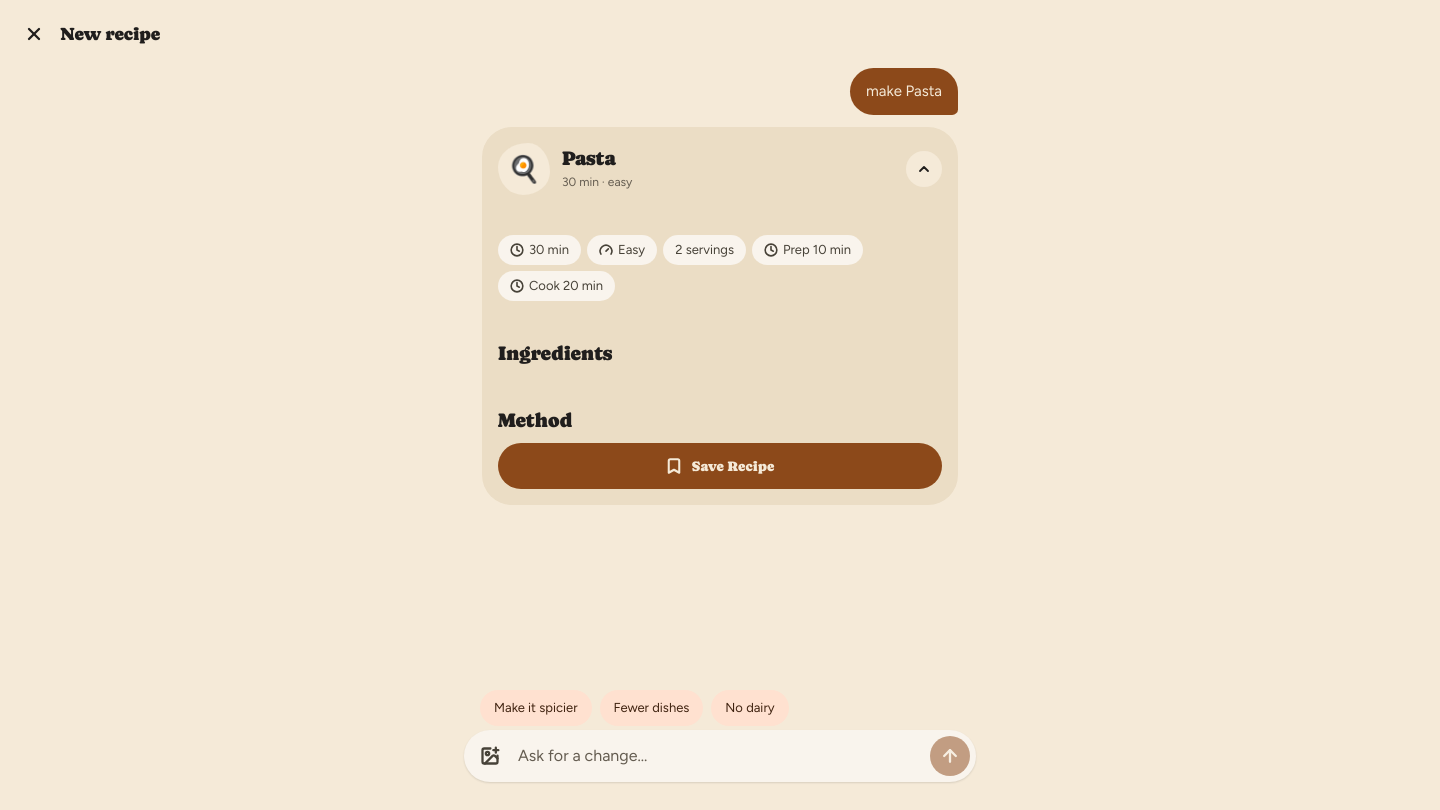
Test: RecipeChatPage close and gate › Close asks before discarding an unsaved recipe
Click the button named "Close".
click(34, 34)  # box [12,12,56,56]
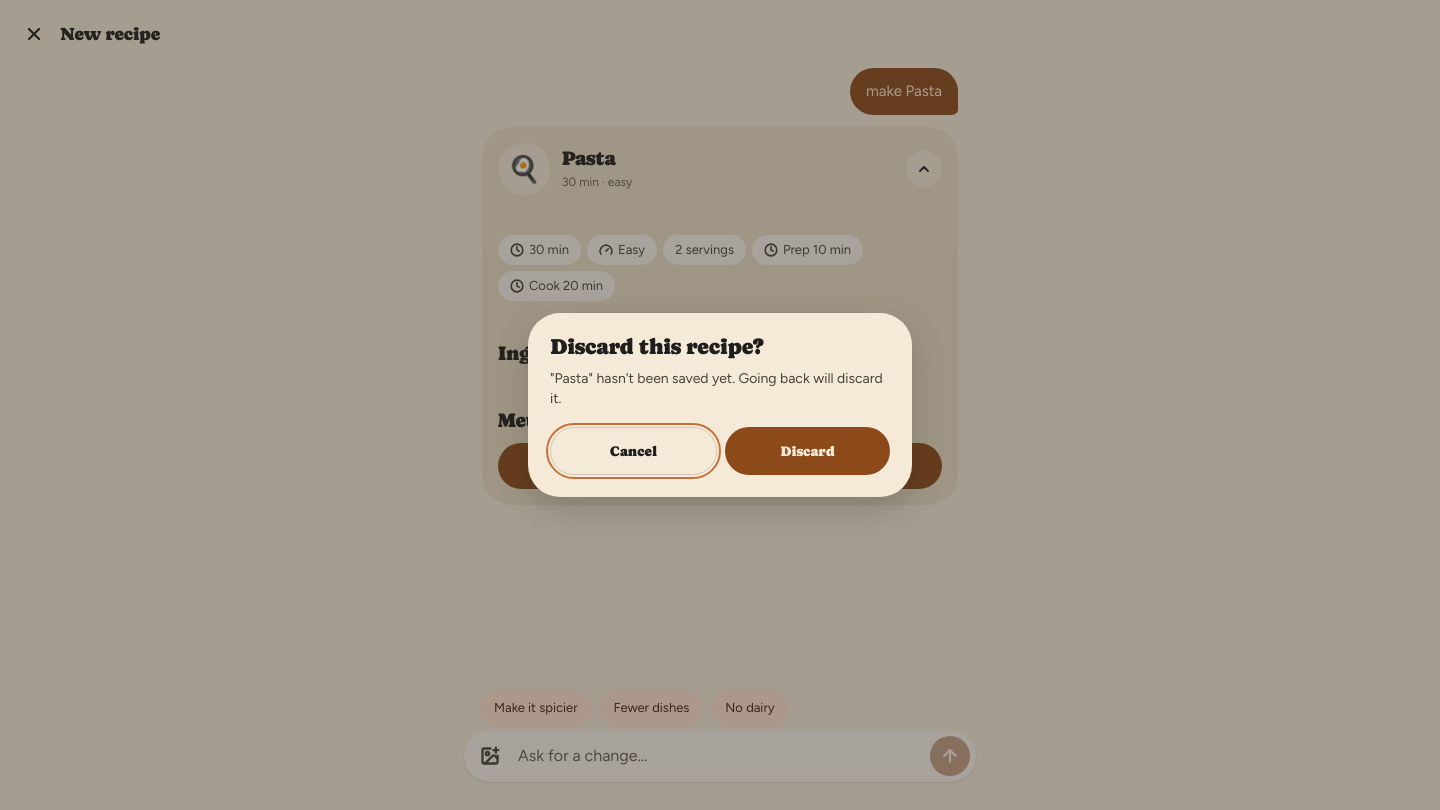
Check: the dialog "Discard this recipe?" is shown, box [528,313,912,497]
